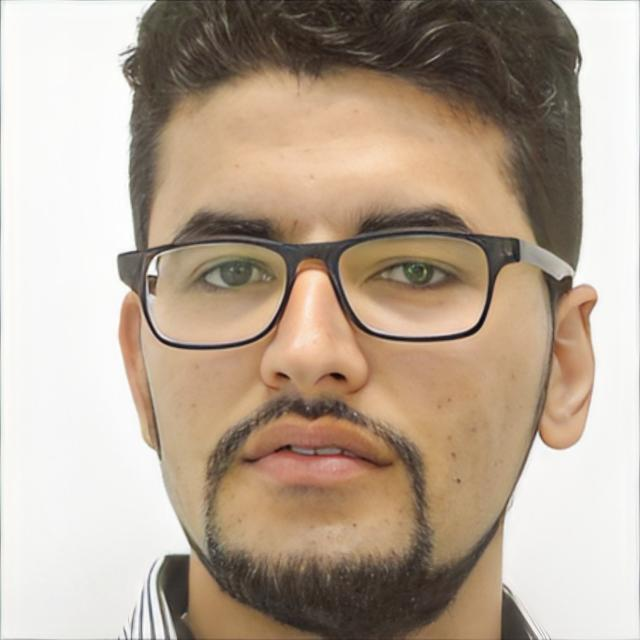neutral: (142, 58, 554, 640)
